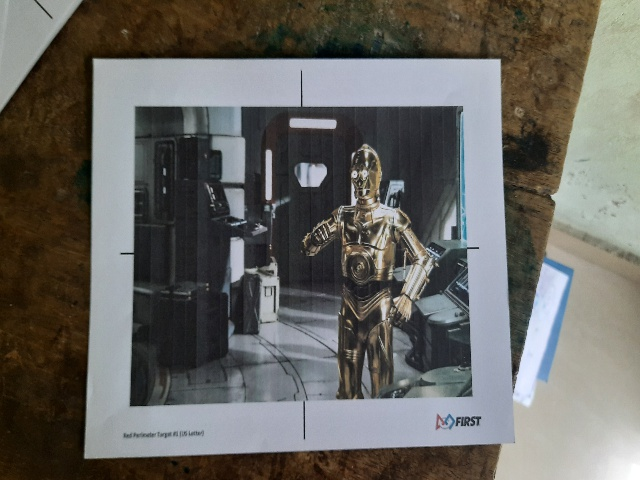rpt1: (89, 59, 513, 445)
